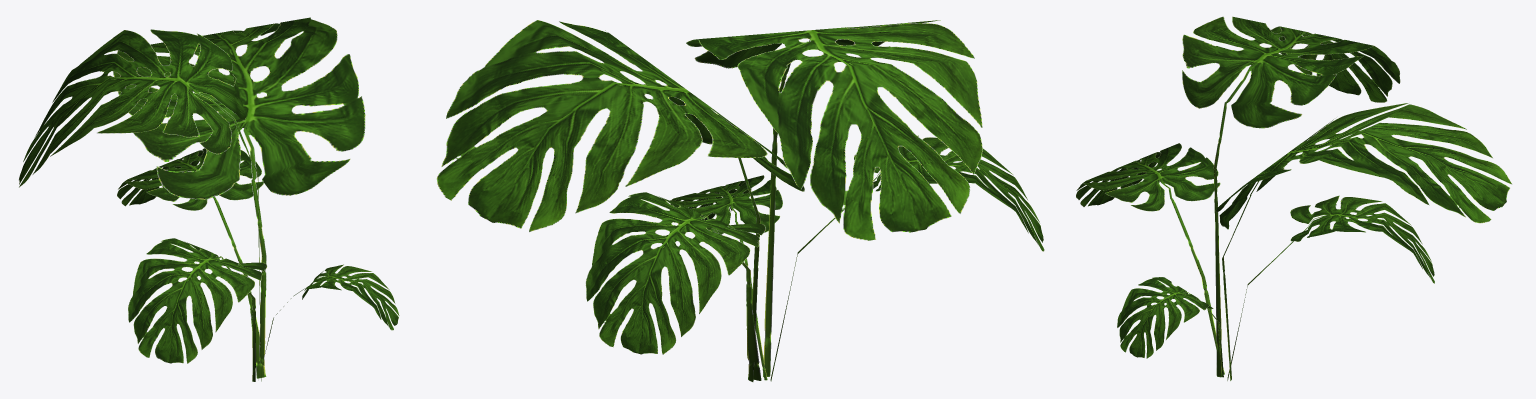
File: Plant_02_Art.glb
3 views of the same model, side by side, from view 1: azimuth 30°, elevation 25°; view 2: azimuth 150°, elevation 25°; view 3: azimuth 270°, elevation 25° (orthographic). The views are drawn at different scales.
Visible parts, largest first — view 1: Plant_02_Art; view 2: Plant_02_Art; view 3: Plant_02_Art.
Part boxes in pixels (x1,y1,x2,y2): Plant_02_Art: (19,17,399,381); Plant_02_Art: (436,20,1044,381); Plant_02_Art: (1076,16,1512,380).
Bounding box in the file's own units: 3.12 × 2.6 × 3.45.
Materials: 1 (1 with a texture image).
